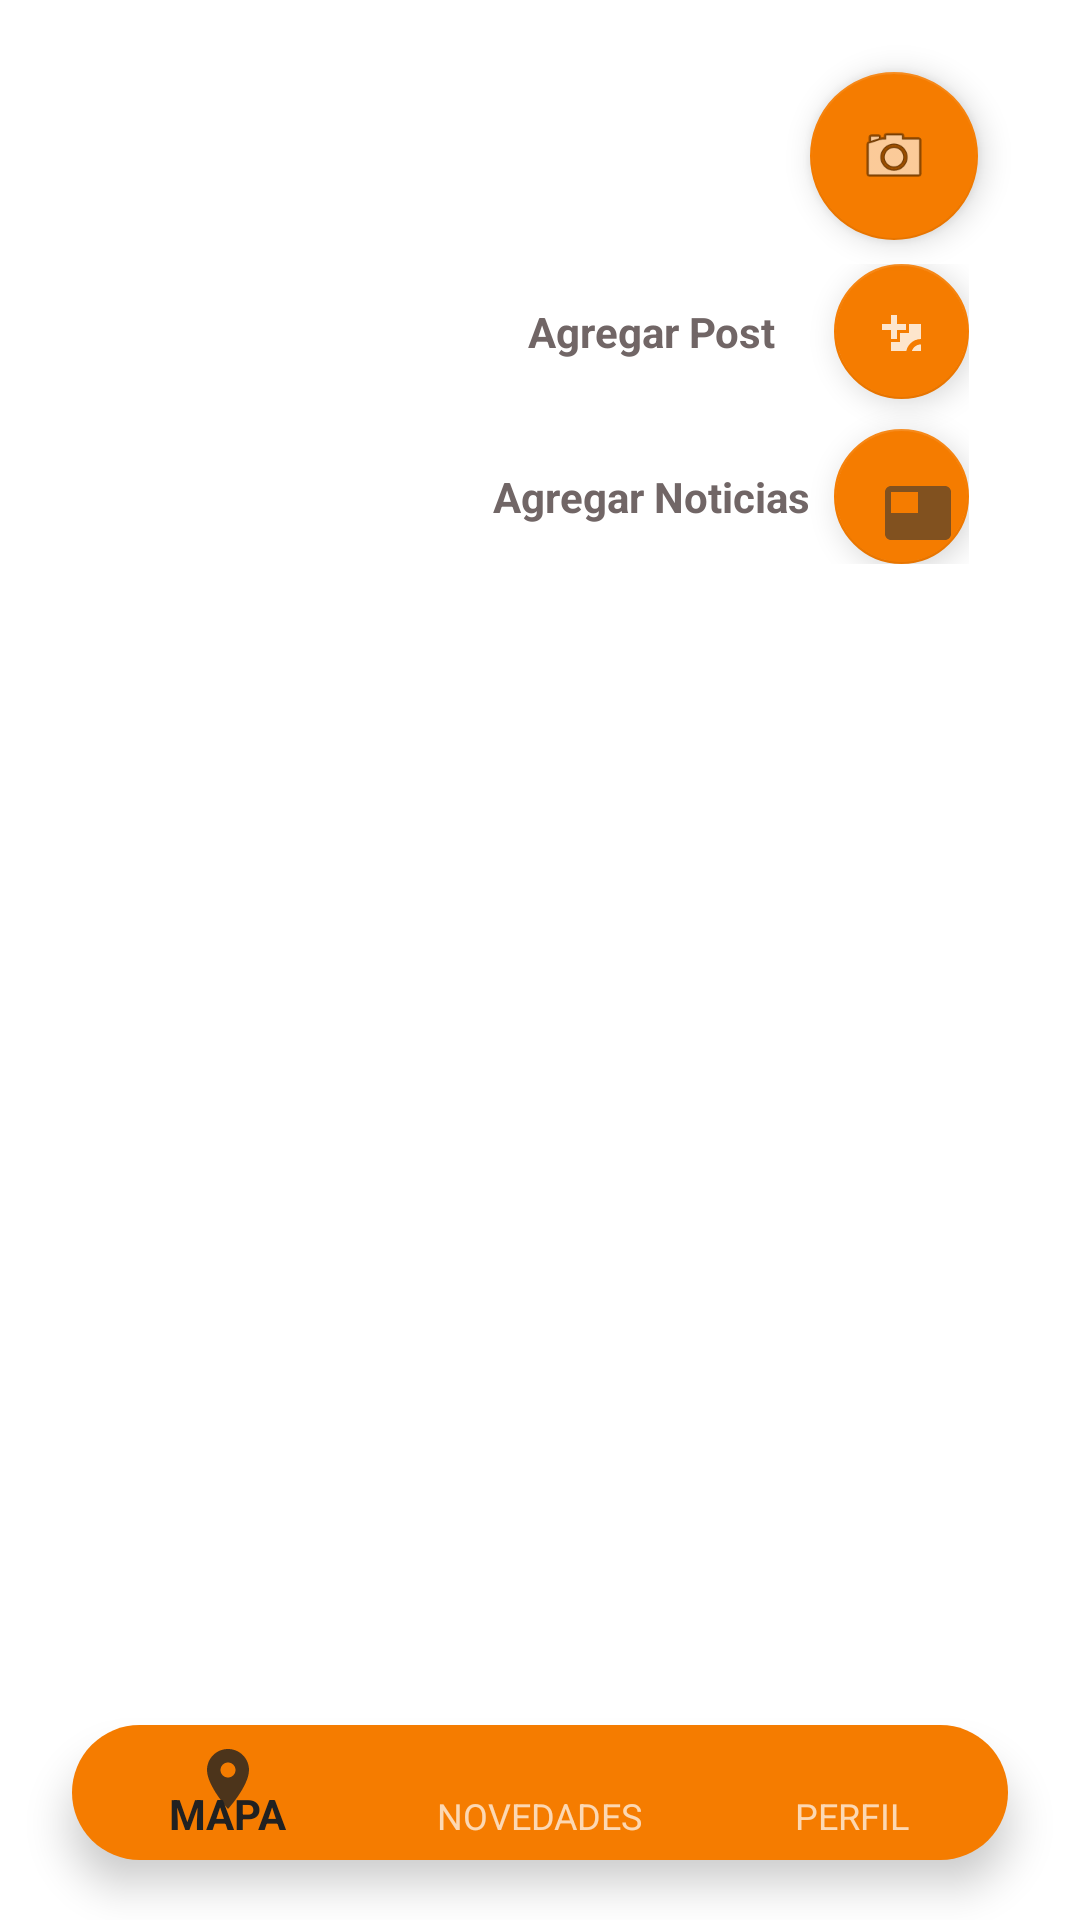

Named icons in this screenshot (1080px×1920px) and their centers, (x,y):
camera: (894,156)
post take picture: (901,331)
